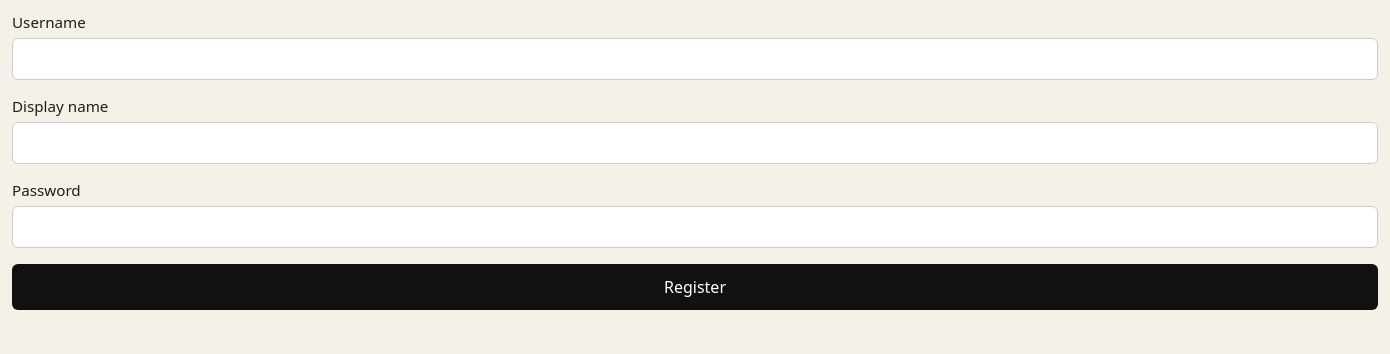
RegisterForm › shows an error when the username is taken
Step 1. Type "alice" into the field labelled "Username" → [695, 59], box [12,38,1378,80]
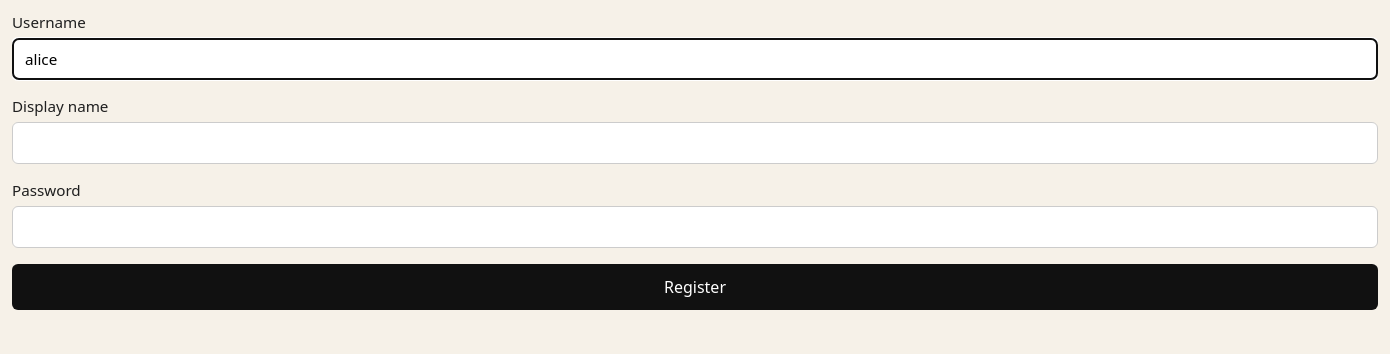
Step 2. Type "Alice" into the field labelled "Display name" → [695, 143], box [12,122,1378,164]
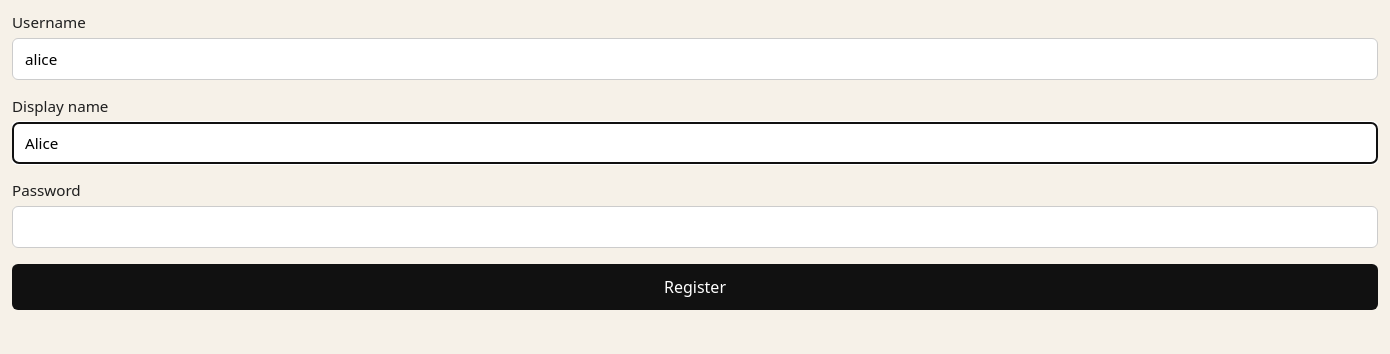
Step 3. Type "correct horse battery staple" into the password field labelled "Password" → [695, 227], box [12,206,1378,248]
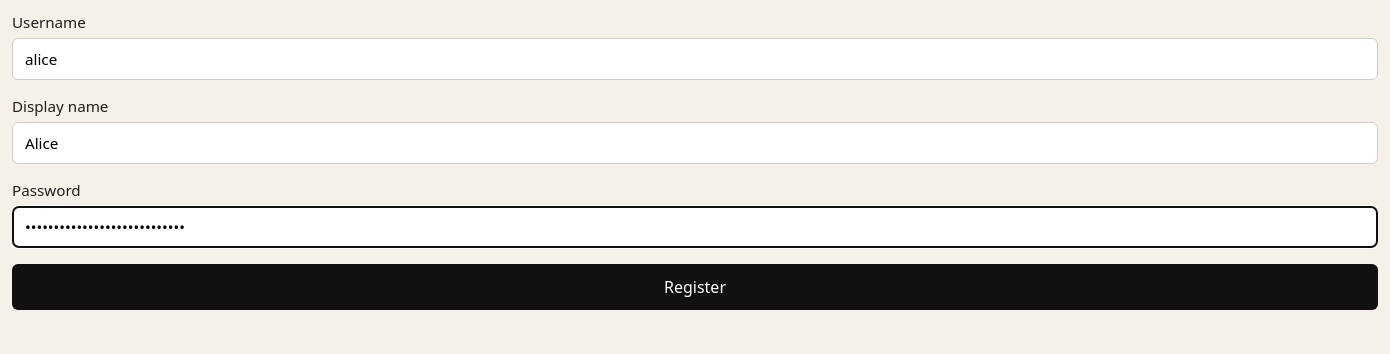
Step 4. Click the button "Register" → [695, 287], box [12,264,1378,310]
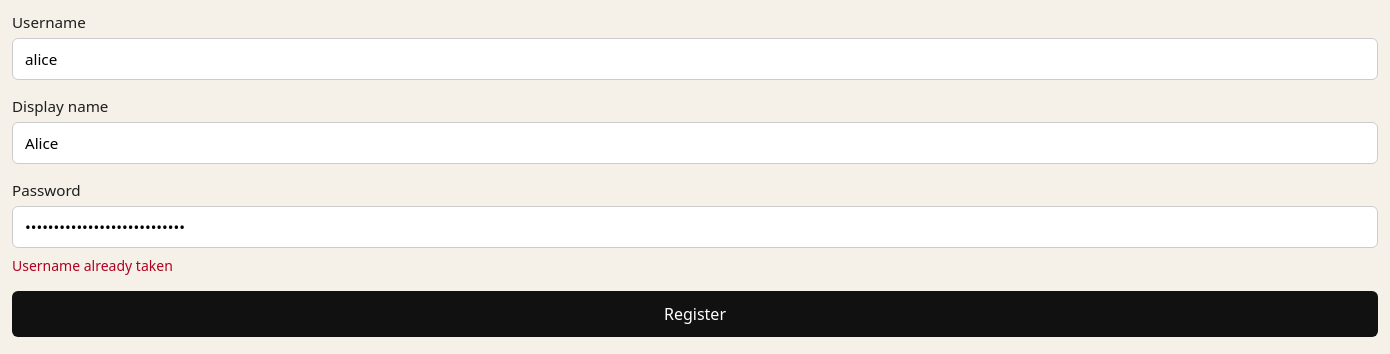
Check: the text "Username already taken" is shown, box [12,256,173,275]
